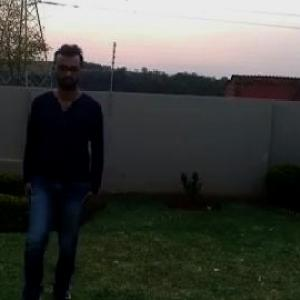follow: (29, 37, 110, 299)
